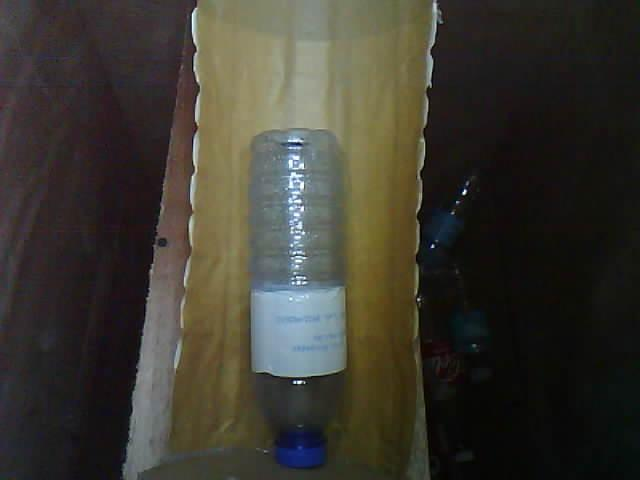small_bottle: (229, 112, 364, 480)
